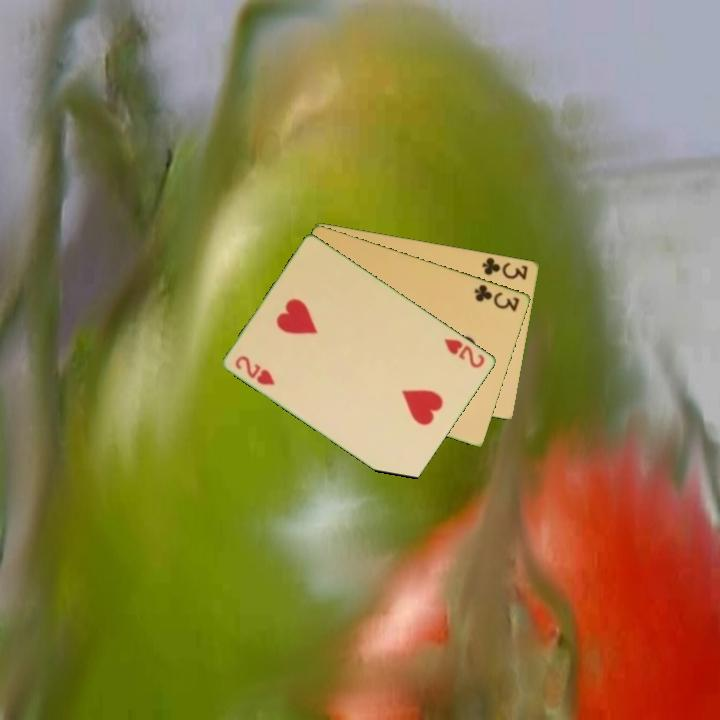2h: (441, 335, 488, 371), (232, 352, 279, 388)
3c: (471, 281, 522, 314), (479, 254, 531, 283)
